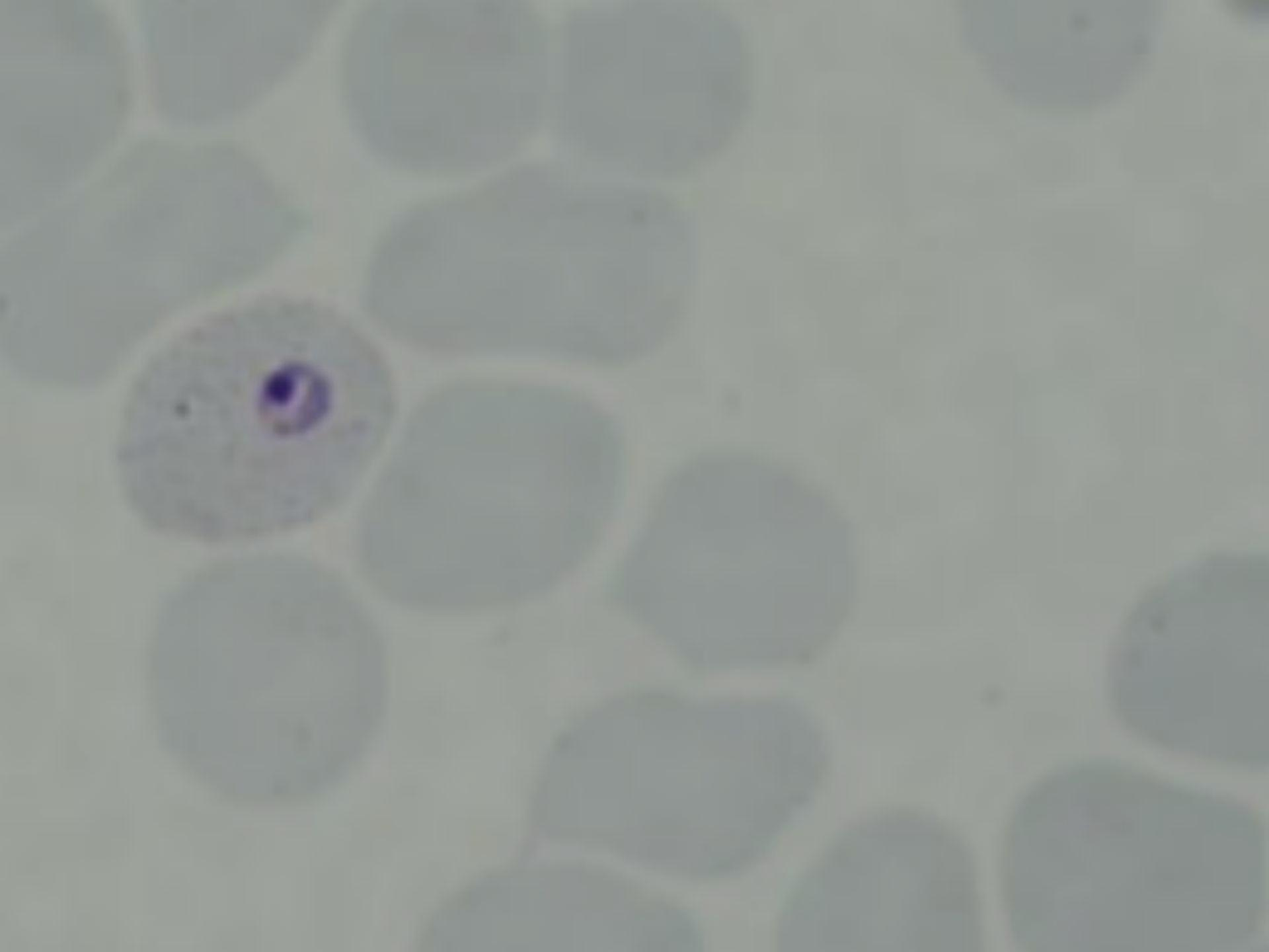Infected: (116, 293, 389, 528)
Uninfected: (0, 136, 293, 387), (347, 372, 622, 613), (520, 685, 834, 880), (365, 171, 697, 355), (142, 549, 380, 795), (611, 447, 864, 668), (1003, 759, 1269, 952), (342, 0, 558, 171), (555, 0, 749, 177), (1114, 547, 1269, 768)
